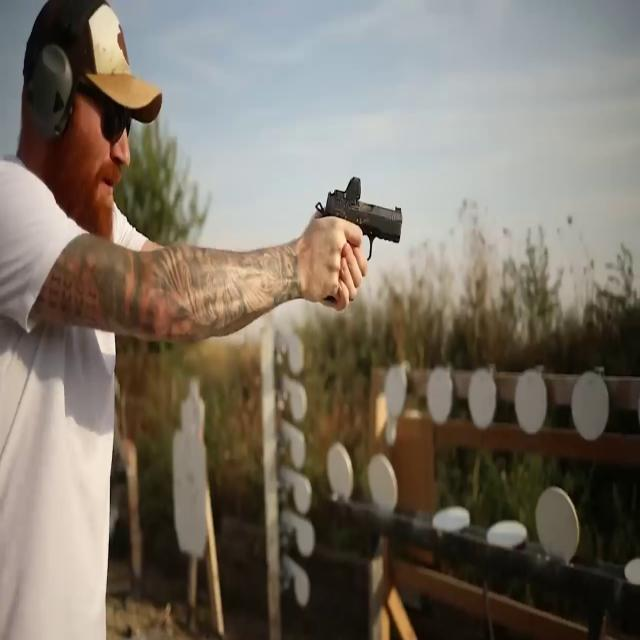Handgun: (313, 167, 412, 317)
